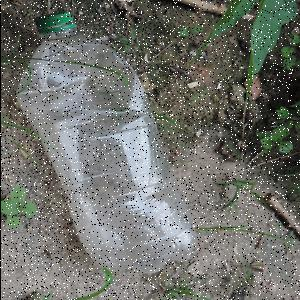Plastic-bottle: (16, 12, 193, 276)
